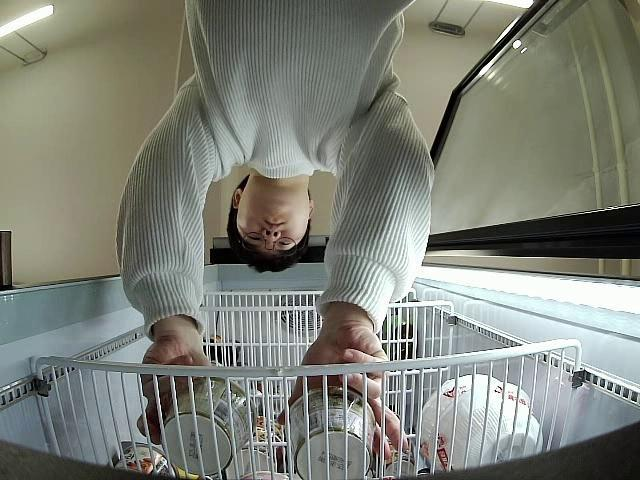04_chapagetti_S: (162, 378, 260, 474), (284, 389, 378, 480)
